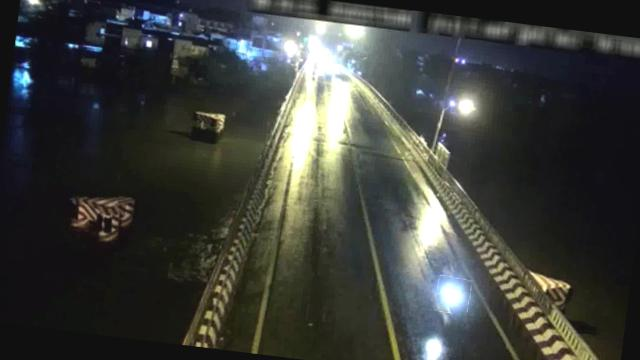Bike: (434, 275, 472, 315)
